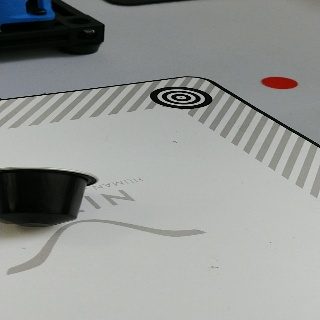capsule_10: (1, 167, 99, 226)
